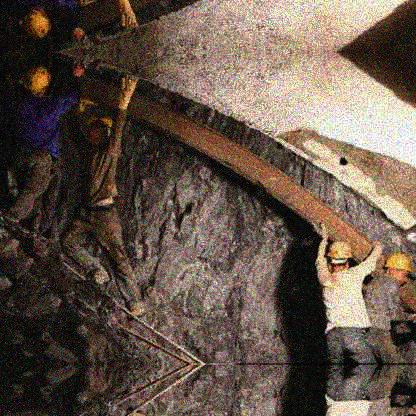helmet: (20, 5, 51, 39), (23, 64, 52, 98), (84, 115, 115, 146), (325, 240, 353, 273), (384, 254, 413, 285)
